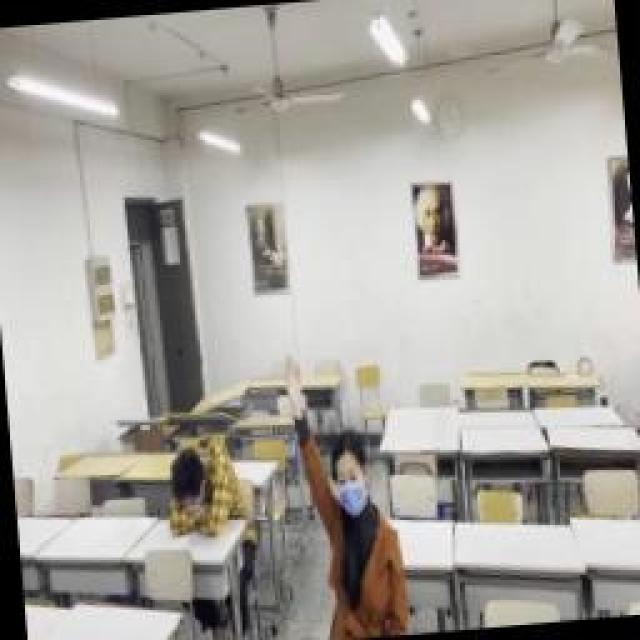sleep: (162, 432, 248, 542)
study: (280, 342, 415, 640)
